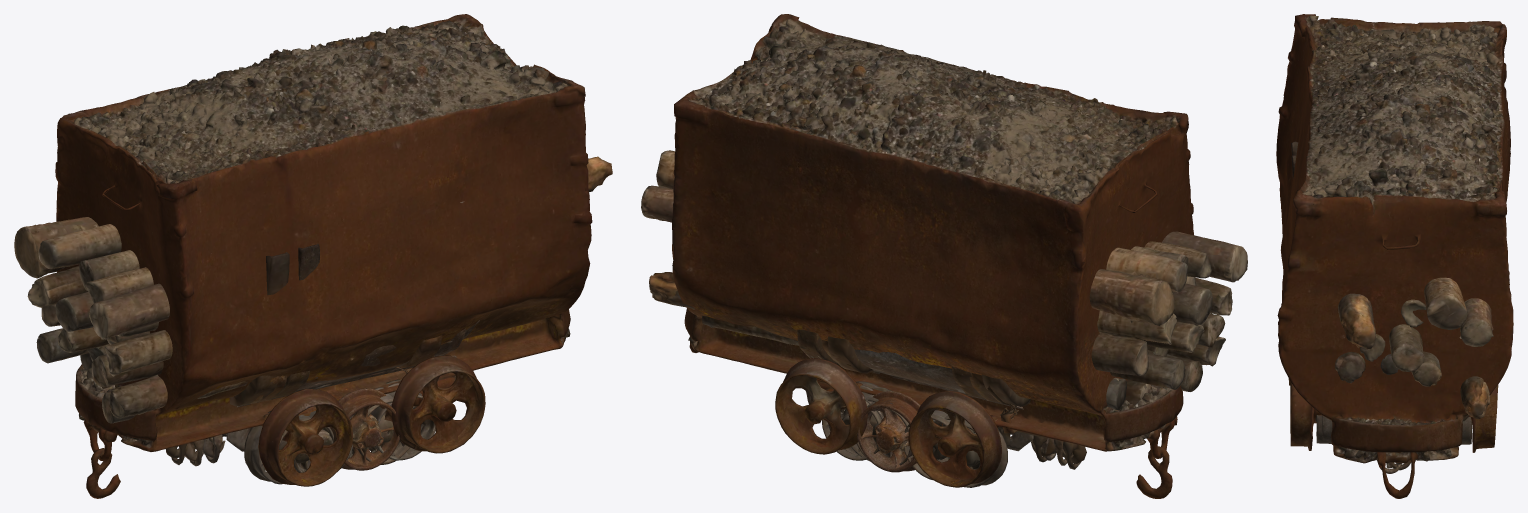
Rendered from MineAlt_Loren.4aa0581fe3.glb.
The picture shows the model from 3 angles, left to right: view 1: azimuth 30°, elevation 25°; view 2: azimuth 150°, elevation 25°; view 3: azimuth 270°, elevation 25°; orthographic projection. The views are drawn at different scales.
Parts seen in each view (by area): view 1: lore_kohle, wagen_holz, lore_leer, radsatz, lore_saecke, wagen_leer; view 2: lore_kohle, wagen_holz, radsatz, lore_leer, wagen_leer, lore_saecke; view 3: lore_kohle, wagen_holz, wagen_leer, lore_leer.
Boxes of the visible parts, left/top/right/bottom form: lore_kohle: left=55, top=14, right=592, bottom=498; wagen_holz: left=14, top=156, right=612, bottom=484; lore_leer: left=202, top=201, right=479, bottom=472; radsatz: left=329, top=388, right=399, bottom=470; lore_saecke: left=184, top=335, right=442, bottom=472; wagen_leer: left=211, top=243, right=422, bottom=472; lore_kohle: left=672, top=14, right=1193, bottom=498; wagen_holz: left=641, top=150, right=1247, bottom=487; radsatz: left=857, top=391, right=920, bottom=472; lore_leer: left=828, top=349, right=1056, bottom=460; wagen_leer: left=797, top=329, right=1055, bottom=479; lore_saecke: left=822, top=340, right=1072, bottom=469; lore_kohle: left=1276, top=14, right=1513, bottom=498; wagen_holz: left=1291, top=141, right=1493, bottom=428; wagen_leer: left=1291, top=155, right=1472, bottom=470; lore_leer: left=1315, top=415, right=1401, bottom=473.
Size of the model in its own units: 2.3 by 1.56 by 0.9497.
Materials: 6 (6 with a texture image).
